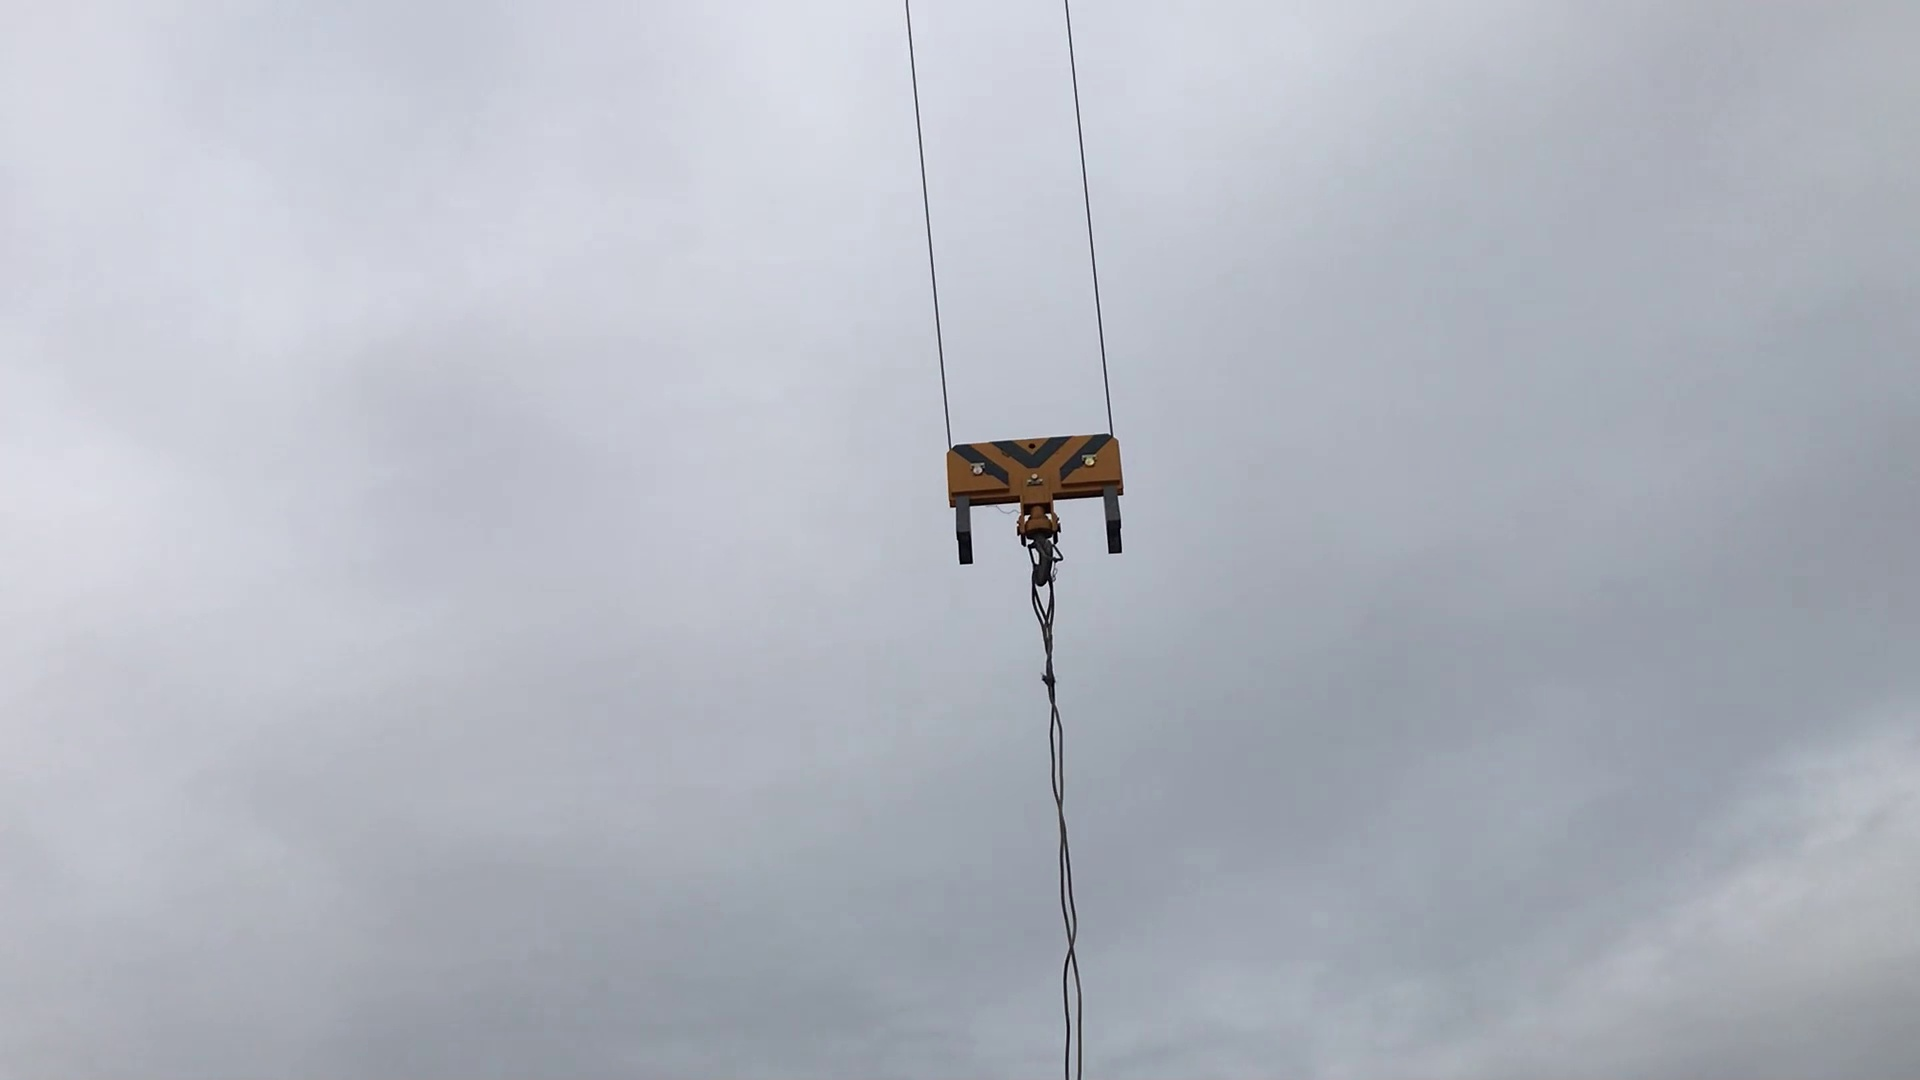hook: (936, 419, 1146, 591)
